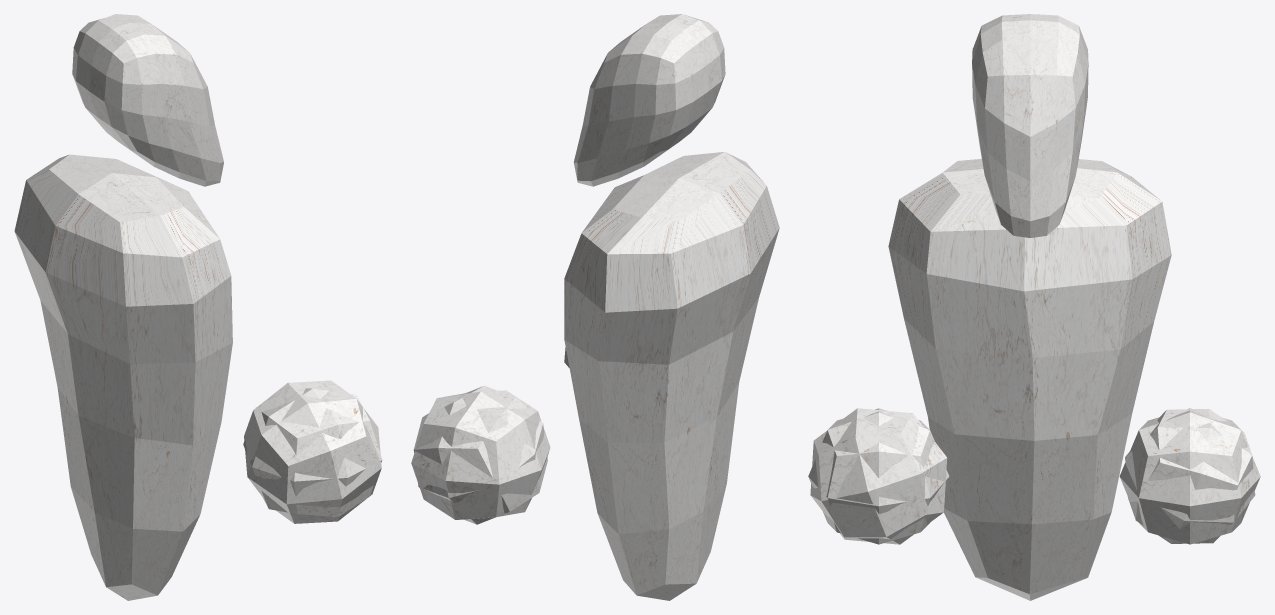
Rendered from Rzezba.fbx.
The picture shows the model from 3 angles, left to right: view 1: azimuth 30°, elevation 25°; view 2: azimuth 150°, elevation 25°; view 3: azimuth 270°, elevation 25°; orthographic projection.
Parts seen in each view (by area): view 1: Cube, Cube.001, Cube.002; view 2: Cube, Cube.001, Cube.003; view 3: Cube, Cube.001, Cube.002, Cube.003.
Boxes of the visible parts, x1,y1,x2,y2 form: Cube: [14, 154, 232, 600]; Cube.001: [72, 14, 223, 186]; Cube.002: [243, 380, 382, 523]; Cube: [564, 152, 779, 600]; Cube.001: [573, 14, 725, 186]; Cube.003: [411, 385, 550, 524]; Cube: [888, 158, 1171, 600]; Cube.001: [972, 14, 1088, 237]; Cube.002: [808, 408, 949, 544]; Cube.003: [1119, 408, 1260, 544].
Bounding box in the file's own units: 348 × 763 × 538.
